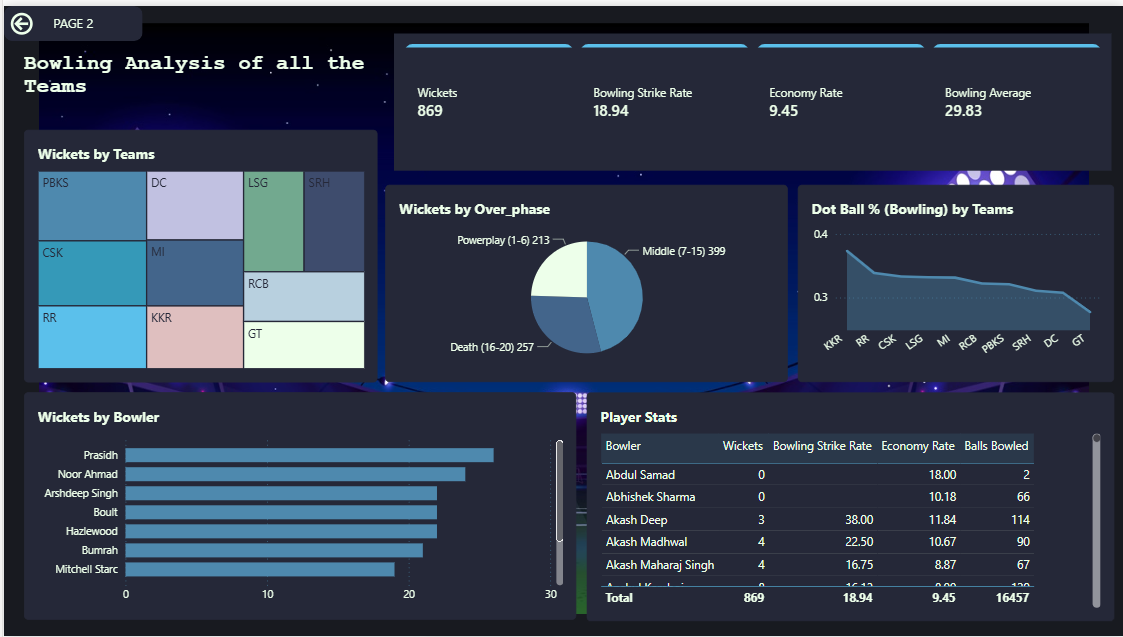

This screenshot's page, from the dashboard's own definition file:
{"tool":"powerbi","page":{"name":"Bowling Analysis","canvas":[1280,720],"ordinal":2},"visuals":[{"type":"tableEx","title":"Player Stats","fields":{"Values":["Fact_deliveries.bowler","_Measures Bowling.Wickets","_Measures Bowling.Bowling Strike Rate","_Measures Bowling.Economy Rate","_Measures Bowling.Balls Bowled"]},"box":[665.7,441.4,602.9,261.4],"z":0},{"type":"pieChart","fields":{"Y":["_Measures Bowling.Wickets"],"Category":["Fact_deliveries.Over_phase"]},"box":[435.7,204.3,460,225.7],"z":1000},{"type":"treemap","fields":{"Values":["_Measures Bowling.Wickets"],"Group":["Dim_teams.Teams"]},"box":[22.9,141.4,404.3,288.6],"z":2000},{"type":"areaChart","fields":{"Category":["Dim_teams.Teams"],"Y":["_Measures Bowling.Dot Ball % (Bowling)"]},"box":[907.1,204.3,361.4,225.7],"z":3000},{"type":"cardVisual","fields":{"Data":["_Measures Bowling.Wickets","_Measures Bowling.Bowling Strike Rate","_Measures Bowling.Economy Rate","_Measures Bowling.Bowling Average"]},"box":[445.7,31.4,822.9,157.1],"z":4000},{"type":"textbox","box":[22.8,51.3,394.8,77],"z":5000},{"type":"barChart","fields":{"Category":["Fact_deliveries.bowler"],"Y":["_Measures Bowling.Wickets"]},"box":[22.9,441.4,631.4,260],"z":6000},{"type":"actionButton","box":[0,0,135.7,40],"z":6001},{"type":"actionButton","box":[0,0,158.6,40],"z":6002}]}

Visuals, with their boxes in screenshot pixels (x1, y1, x2, y2), scaled from the page's 1280x720 canvas onto the 1123x637 screenshot:
"Player Stats" tableEx: {"x1": 584, "y1": 391, "x2": 1113, "y2": 622}
pieChart - _Measures Bowling.Wickets x Fact_deliveries.Over_phase: {"x1": 382, "y1": 181, "x2": 786, "y2": 380}
treemap - _Measures Bowling.Wickets x Dim_teams.Teams: {"x1": 20, "y1": 125, "x2": 375, "y2": 380}
areaChart - Dim_teams.Teams x _Measures Bowling.Dot Ball % (Bowling): {"x1": 796, "y1": 181, "x2": 1113, "y2": 380}
cardVisual - _Measures Bowling.Wickets x _Measures Bowling.Bowling Strike Rate: {"x1": 391, "y1": 28, "x2": 1113, "y2": 167}
textbox: {"x1": 20, "y1": 45, "x2": 366, "y2": 114}
barChart - Fact_deliveries.bowler x _Measures Bowling.Wickets: {"x1": 20, "y1": 391, "x2": 574, "y2": 621}
actionButton: {"x1": 0, "y1": 0, "x2": 119, "y2": 35}
actionButton: {"x1": 0, "y1": 0, "x2": 139, "y2": 35}
